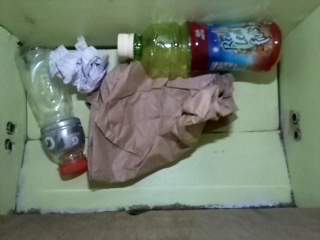bottle: (14, 43, 88, 178), (114, 19, 283, 73)
paper: (84, 59, 238, 186), (50, 37, 109, 93)
